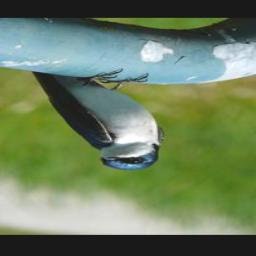Swallow: (31, 68, 168, 172)
